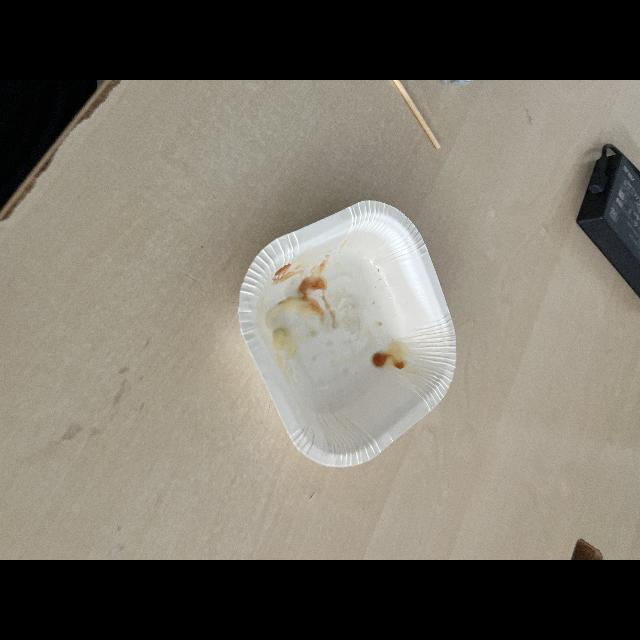cardboard_bowl: (232, 200, 468, 482)
